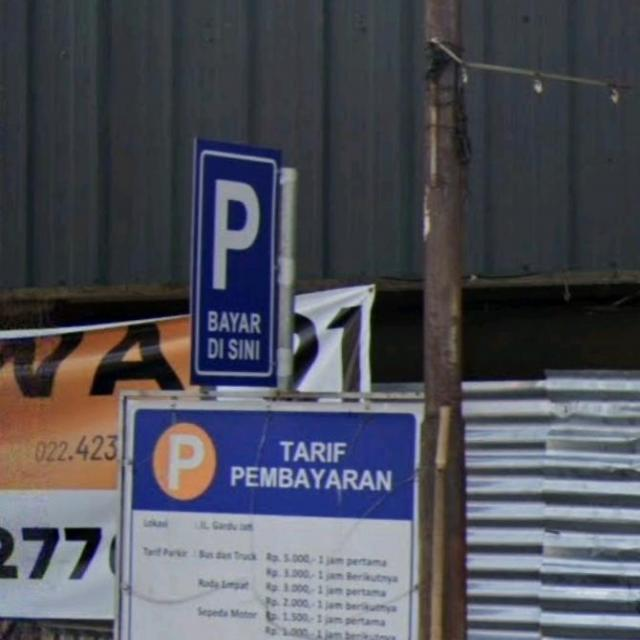traffic sign: (191, 137, 281, 382)
